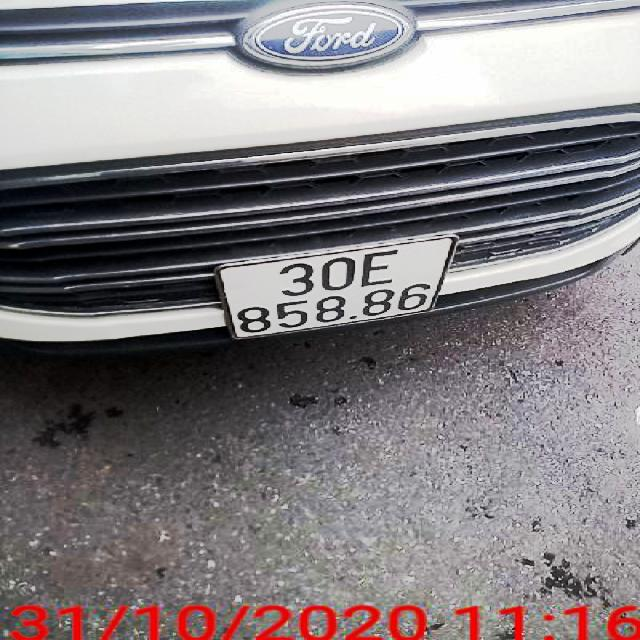license_plate: (223, 237, 456, 340)
